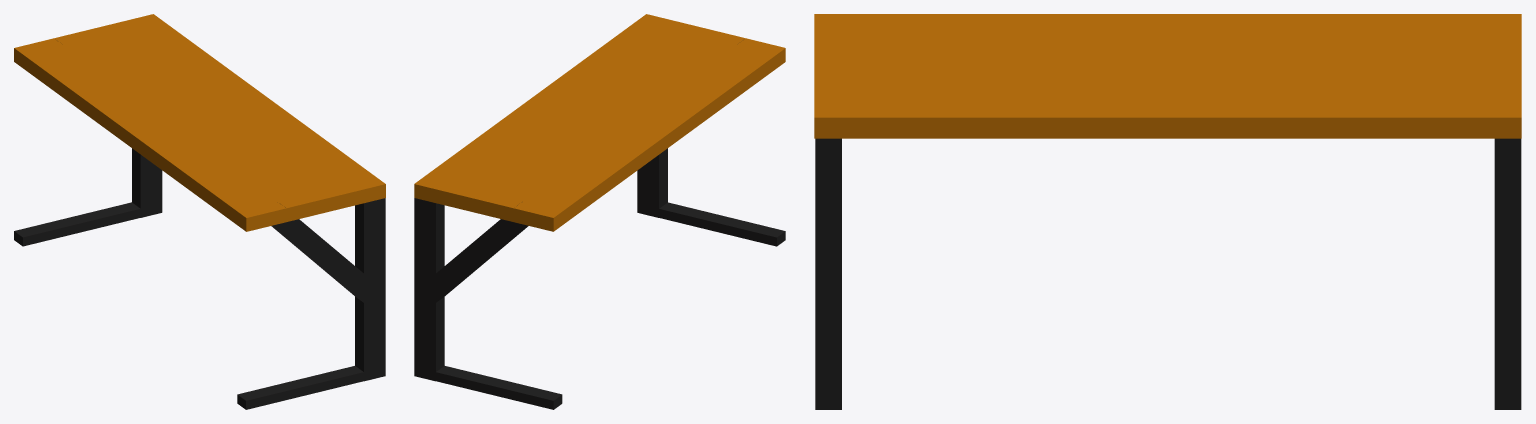
Rendered from biurko_low_poly.fbx.
3 views of the same model, side by side, from view 1: azimuth 30°, elevation 25°; view 2: azimuth 150°, elevation 25°; view 3: azimuth 270°, elevation 25° (orthographic). The views are drawn at different scales.
Visible parts, largest first — view 1: blat, prawa noga, lewa noga; view 2: blat, lewa noga, prawa noga; view 3: blat, lewa noga, prawa noga.
Part boxes in pixels (box(x1,y1,x2,y2)): blat: box(14, 14, 385, 231); prawa noga: box(237, 198, 385, 409); lewa noga: box(14, 148, 162, 246); blat: box(414, 14, 785, 231); lewa noga: box(414, 198, 562, 409); prawa noga: box(637, 148, 785, 246); blat: box(814, 14, 1521, 138); lewa noga: box(1494, 138, 1521, 409); prawa noga: box(815, 138, 841, 409).
Size of the model in its own units: 128 by 169 by 370.
